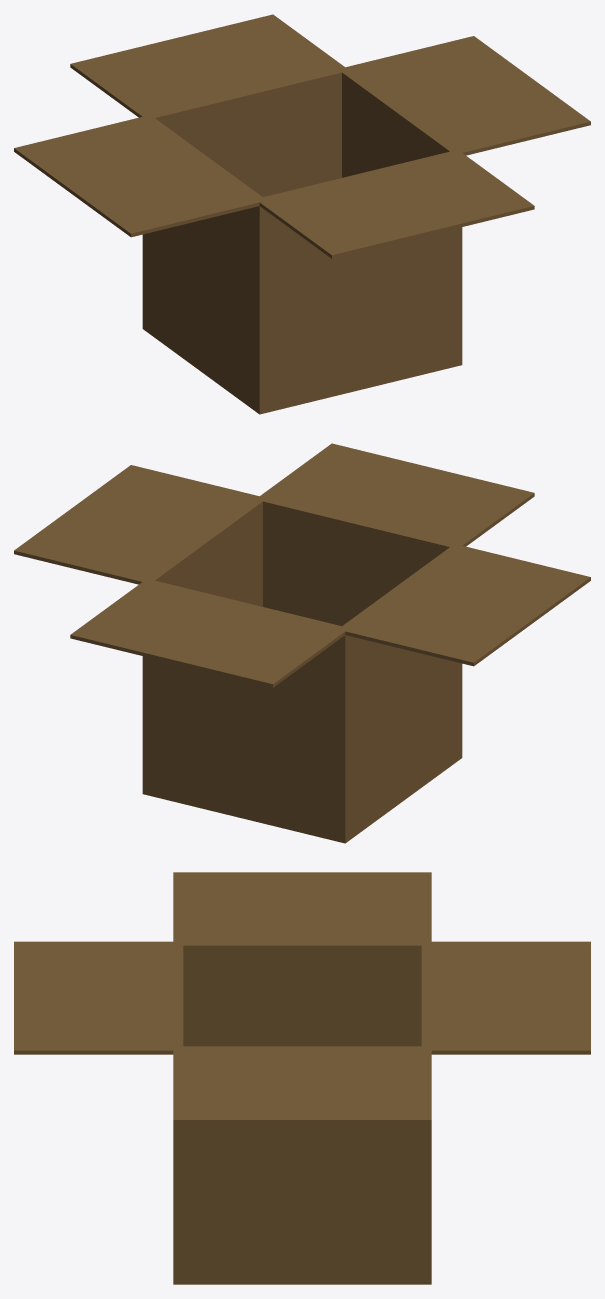
Rendered from Open box.fbx.
3 renders of one model, top to bottom at view 1: azimuth 30°, elevation 25°; view 2: azimuth 150°, elevation 25°; view 3: azimuth 270°, elevation 25°, orthographic. The views are drawn at different scales.
Parts seen in each view (by area): view 1: Cube.007; view 2: Cube.007; view 3: Cube.007.
Boxes of the visible parts, x1,y1,x2,y2 form: Cube.007: [14, 14, 590, 414]; Cube.007: [14, 443, 590, 843]; Cube.007: [14, 872, 590, 1284].
Bounding box in the file's own units: 210 × 92.41 × 206.
